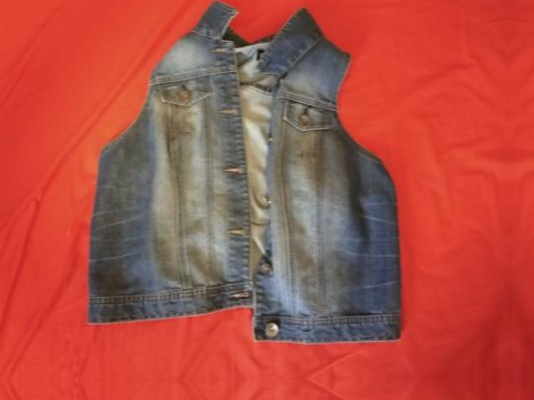Blazer: (70, 0, 427, 348)
